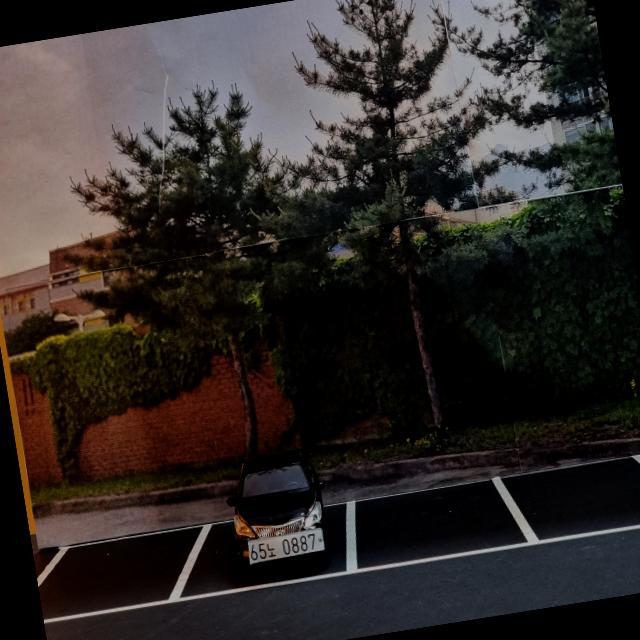empty: (342, 473, 532, 581), (32, 525, 204, 625), (511, 448, 640, 550)
occupied: (196, 447, 354, 599)
